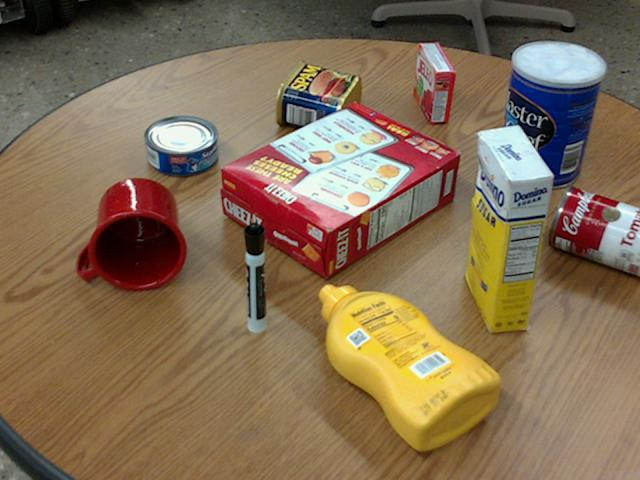cracker_box: (220, 103, 458, 278)
gelatin_box: (414, 43, 454, 122)
large_marker: (243, 221, 265, 332)
master_chef_can: (496, 42, 604, 188)
mug: (76, 178, 186, 290)
mustard_bottle: (318, 284, 499, 448)
potted_meat_can: (275, 60, 361, 133)
sugar_box: (466, 125, 551, 332)
tomato_soup_can: (548, 184, 639, 274)
tuna_fish_can: (144, 115, 217, 174)
